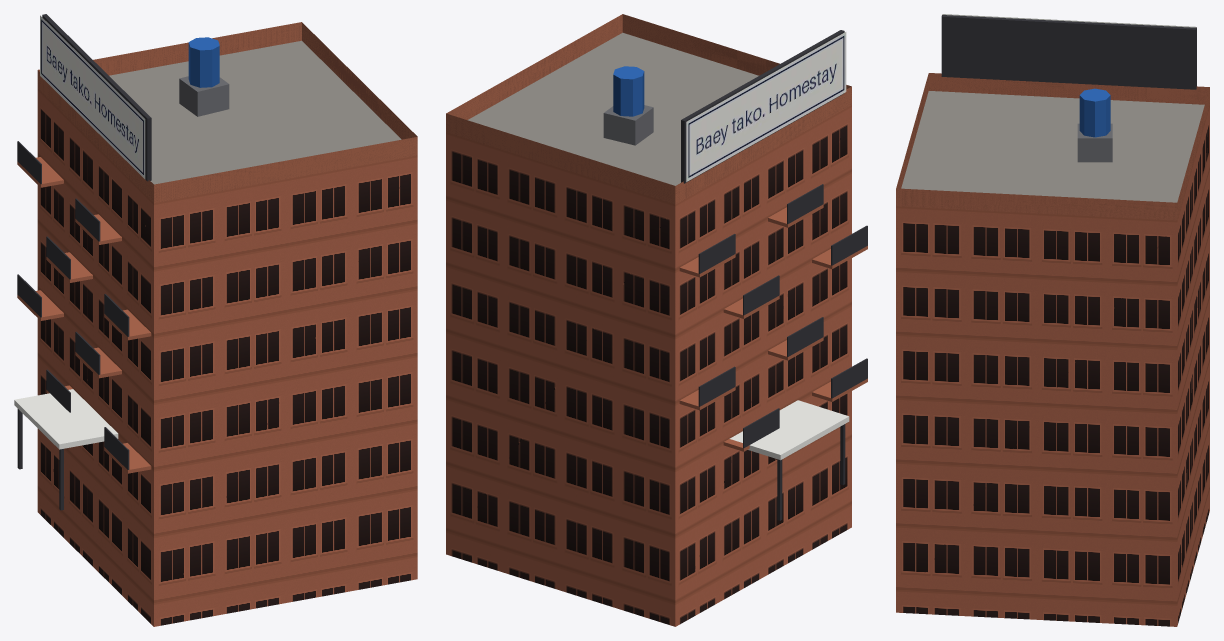
The model's file is hotels-27358-14867.dfa44c0d.glb.
The picture shows the model from 3 angles, left to right: view 1: azimuth 30°, elevation 25°; view 2: azimuth 150°, elevation 25°; view 3: azimuth 270°, elevation 25°; orthographic projection. The views are drawn at different scales.
Bounding box in the file's own units: 16.26 × 24.16 × 14.24.
4 materials, 2 textured.
